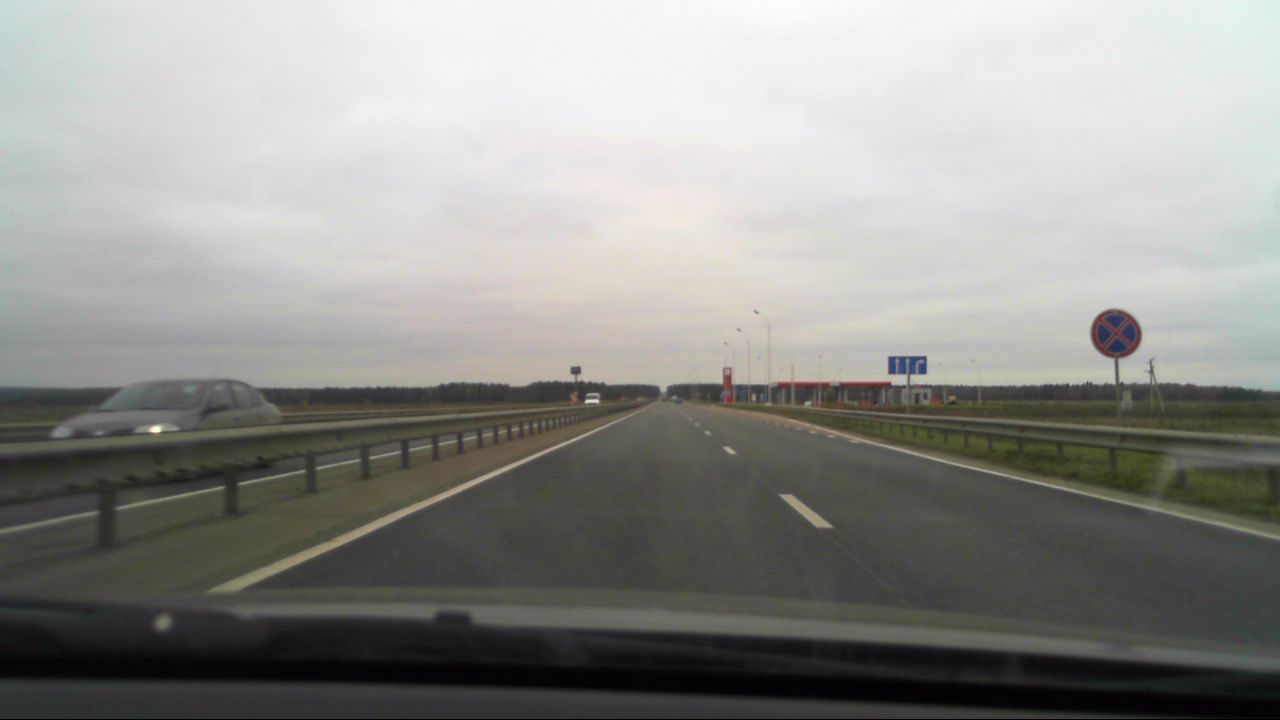No Parking: (1092, 308, 1143, 361)
